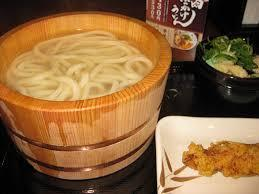kamaage: (1, 9, 174, 194)
